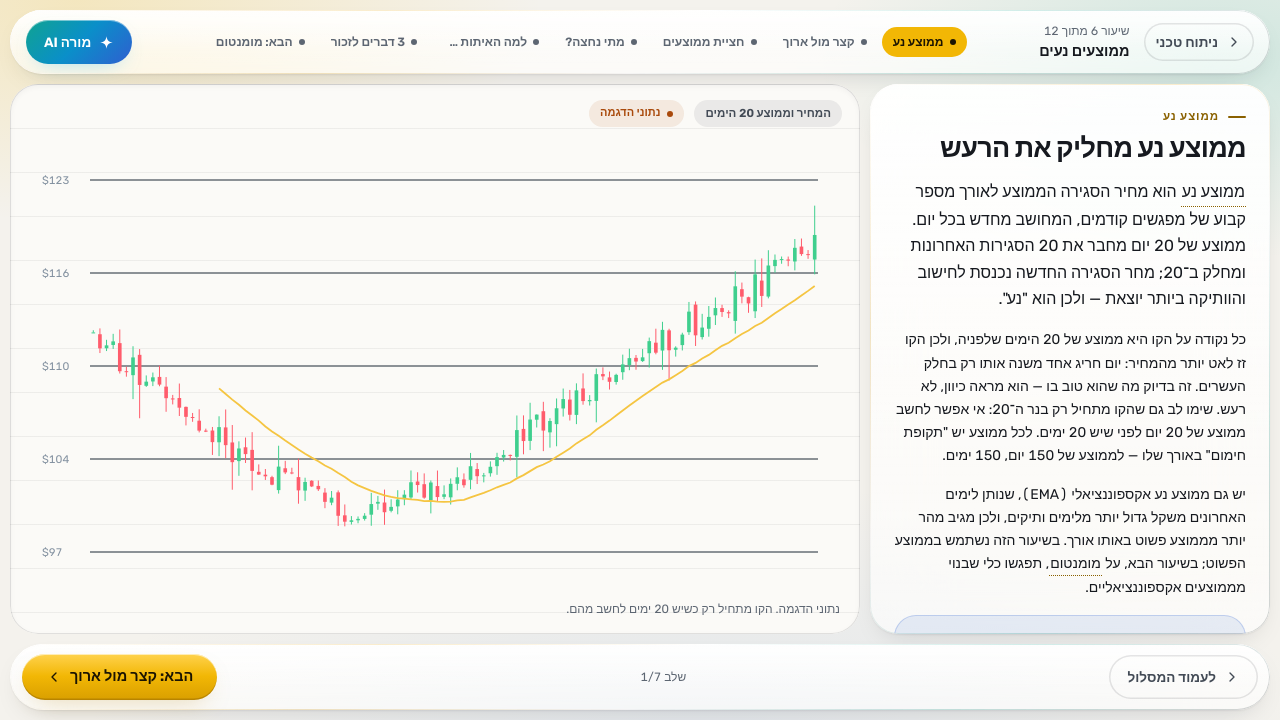
the tutor beside the lesson › opens in the lesson, knows which lesson and step it is, and the lesson stays on screen
What coordinates should you click on to do the following:
click the button "מורה AI"
I would click on:
 (79, 42)
Its box is [26, 20, 132, 64].
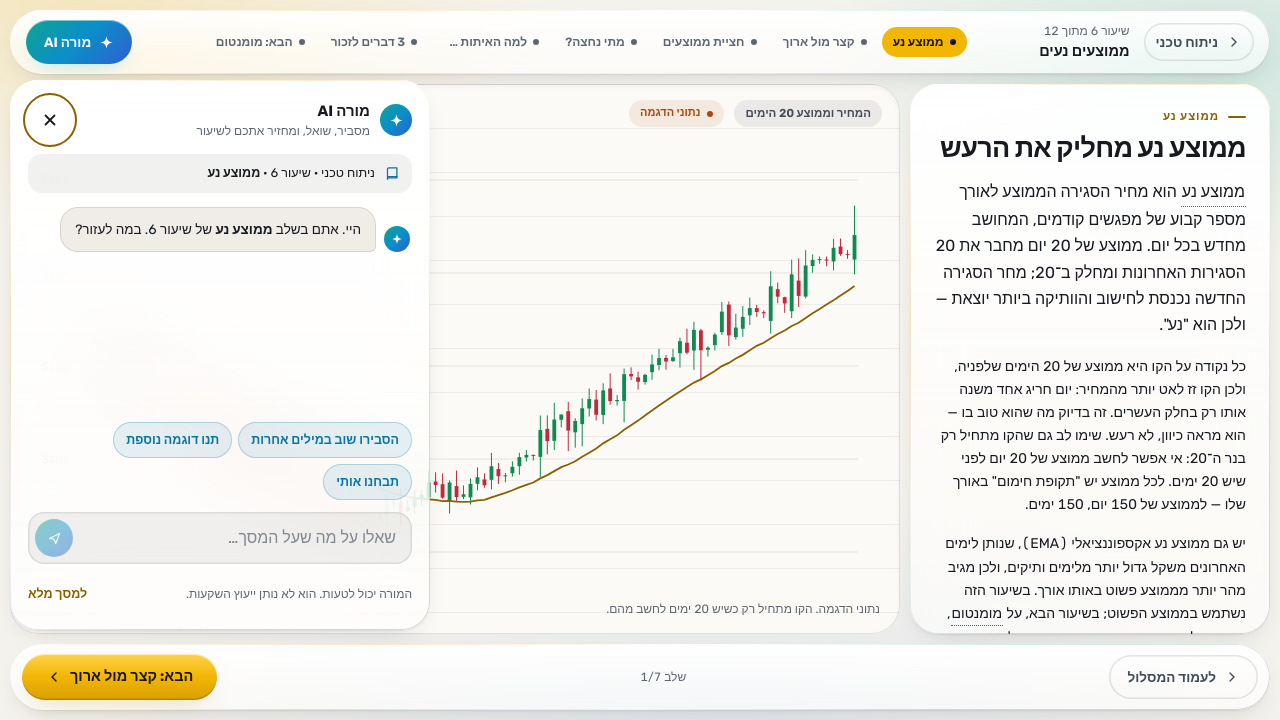
Check: the navigation bar named "שלבי השיעור" is shown, box [205, 27, 966, 57]
Check: the element "מורה AI" shows "ניתוח טכני · שיעור 6", box [270, 165, 375, 180]
Check: the element "מורה AI" shows "ממוצע נע", box [207, 165, 260, 180]
